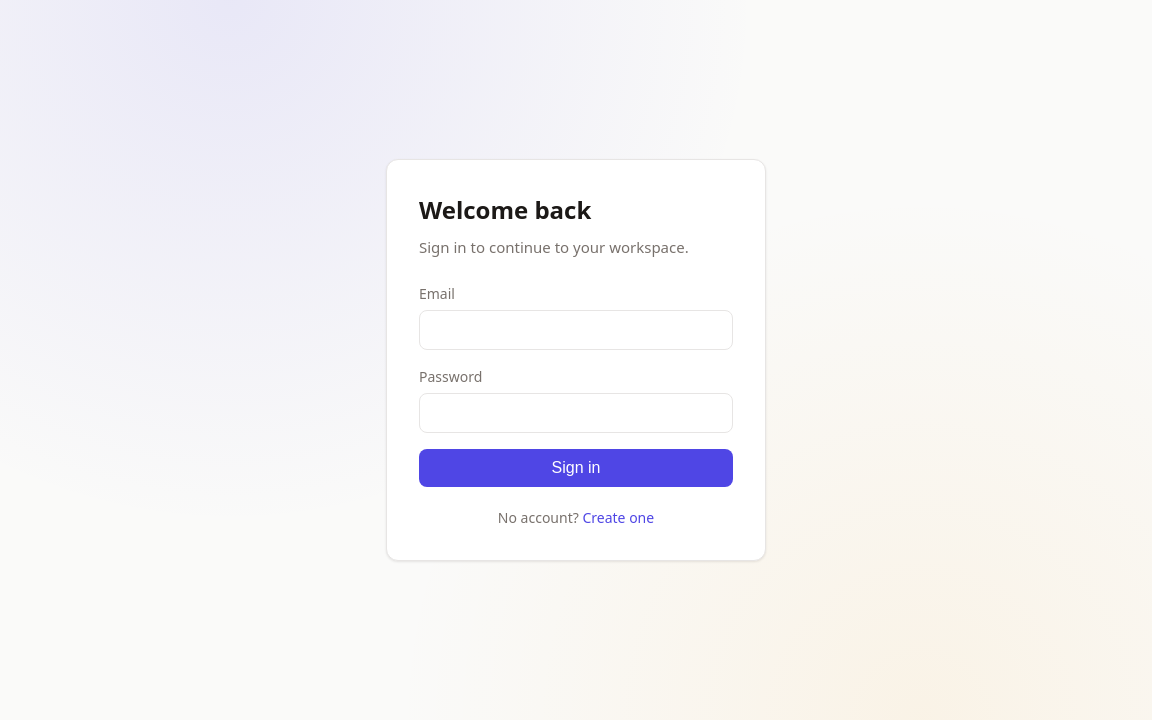
Test case: LoginPage › shows error message when login throws
Type "user@example.com" into the field labelled "Email" at (576, 330), box x1=419 y1=310 x2=733 y2=350
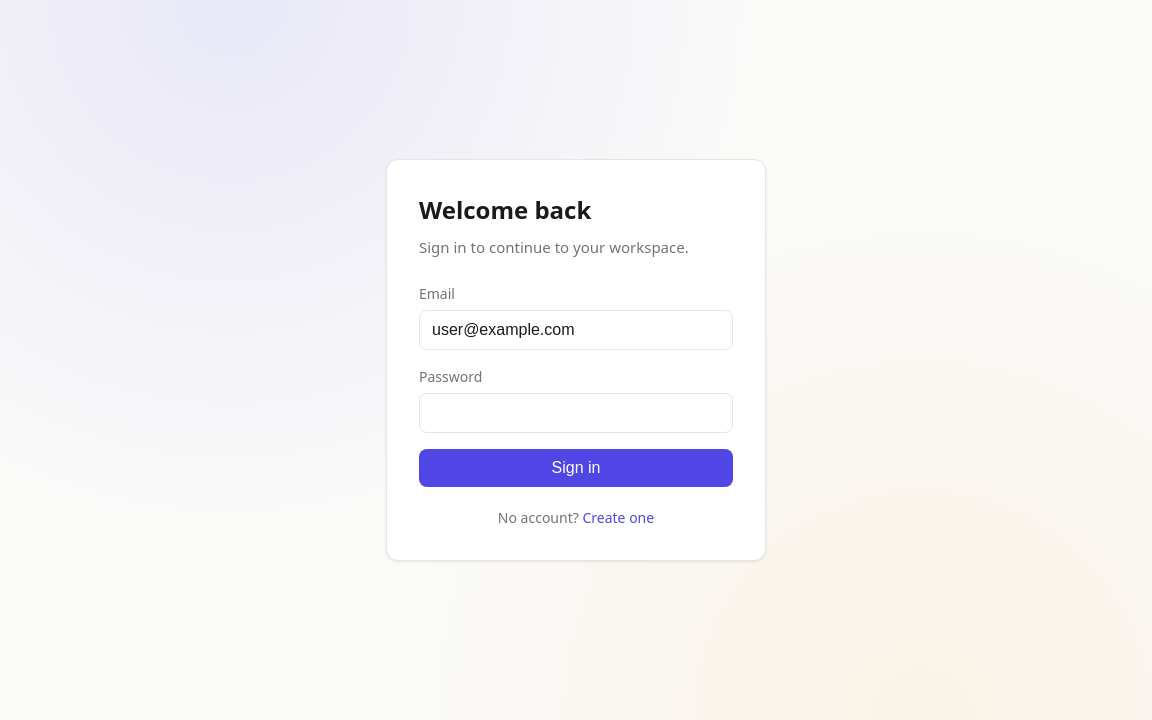
Type "wrongpass" into the password field labelled "Password" at (576, 413), box x1=419 y1=393 x2=733 y2=433
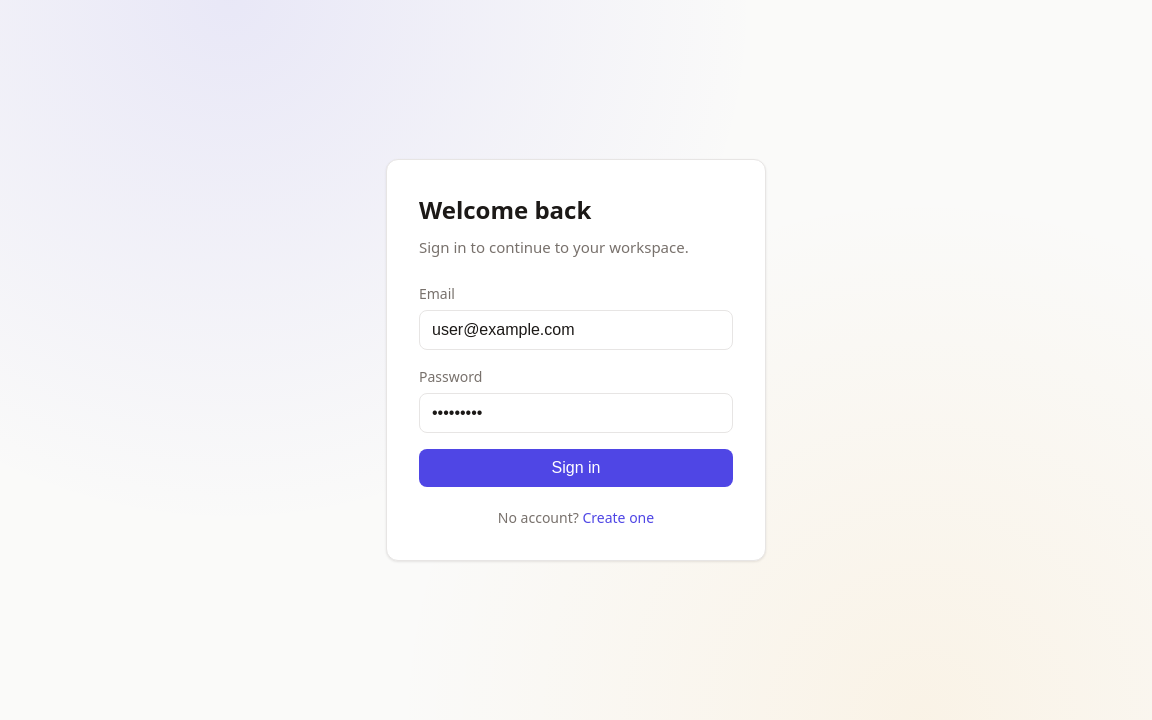
Click the button "Sign in" at (576, 468), box x1=419 y1=449 x2=733 y2=487
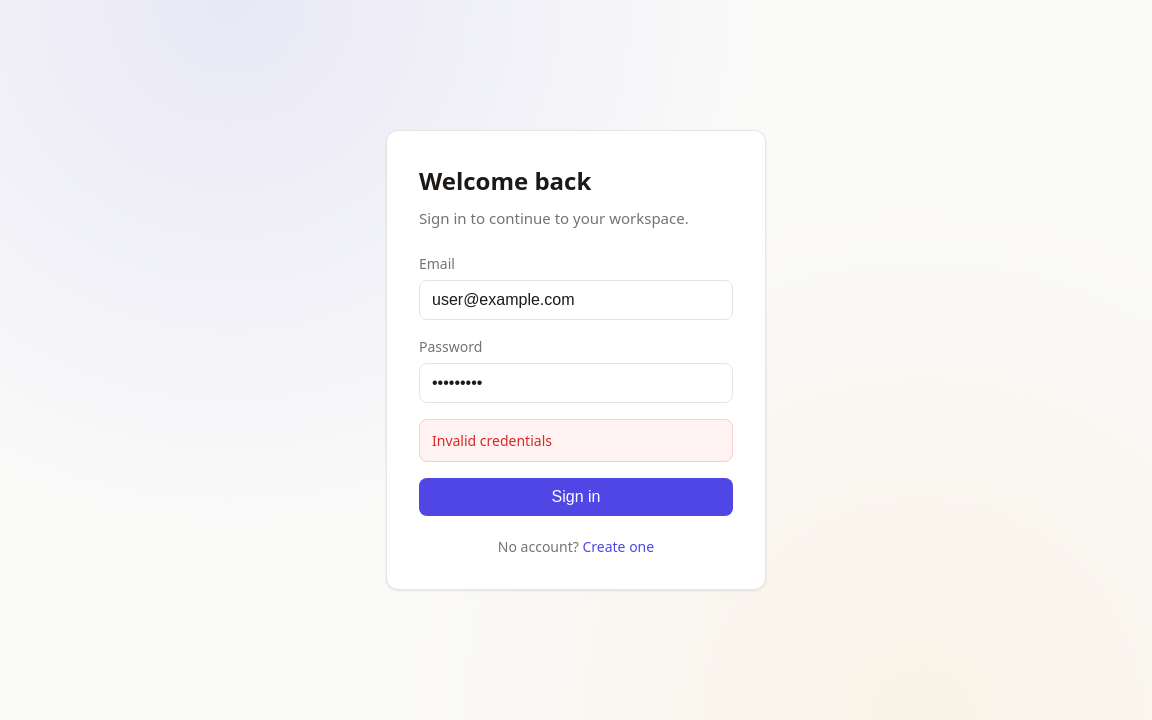
Result: the text "Invalid credentials" is shown at x1=419 y1=419 x2=733 y2=462
